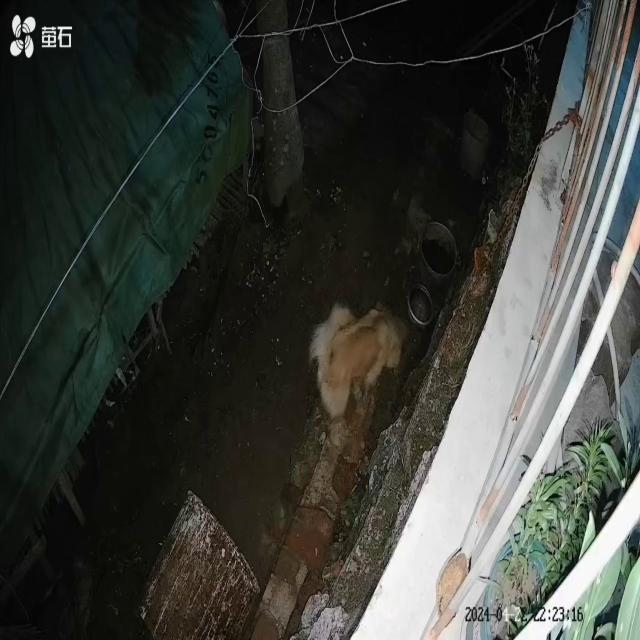dog: (309, 302, 409, 421)
